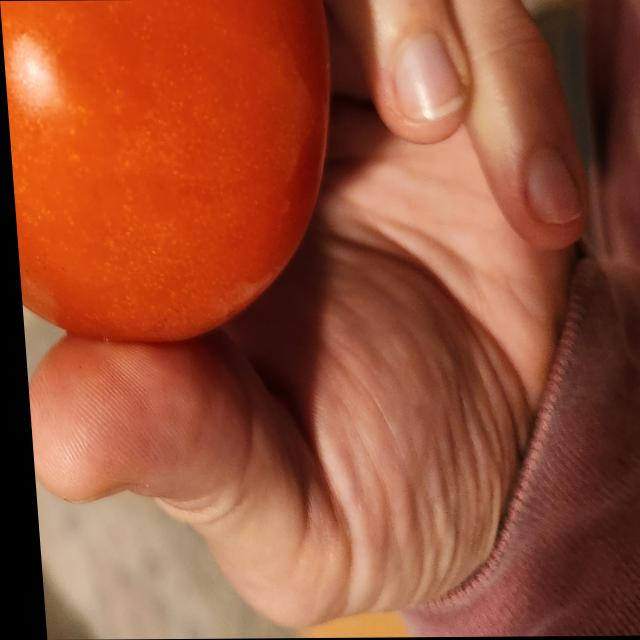tomato: (0, 0, 344, 348)
